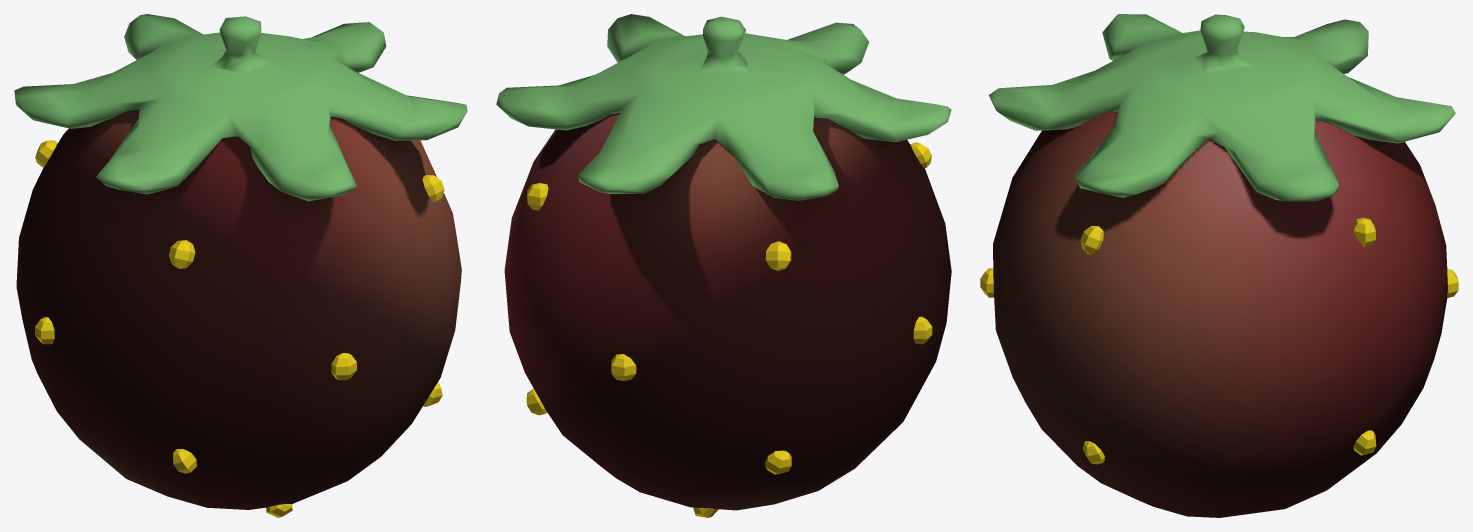
The model's file is Strawberry_test03.fbx.
3 views of the same model, side by side, from view 1: azimuth 30°, elevation 25°; view 2: azimuth 150°, elevation 25°; view 3: azimuth 270°, elevation 25° (orthographic). The views are drawn at different scales.
Parts seen in each view (by area): view 1: Strawberry_body.001; view 2: Strawberry_body.001; view 3: Strawberry_body.001.
Part boxes in pixels (x1=…): Strawberry_body.001: x1=14, y1=14, x2=467, y2=517; Strawberry_body.001: x1=496, y1=14, x2=951, y2=517; Strawberry_body.001: x1=980, y1=14, x2=1458, y2=517.
Bounding box in the file's own units: 81.95 × 93.82 × 84.12.
